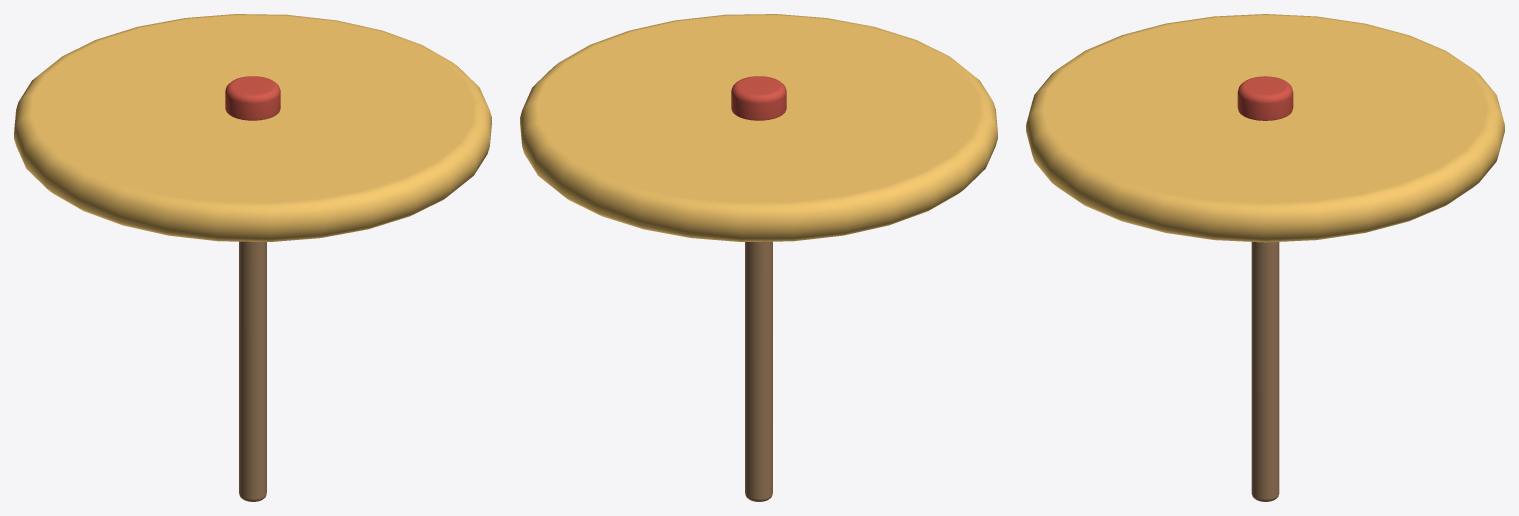
The picture shows the model from 3 angles, left to right: view 1: azimuth 30°, elevation 25°; view 2: azimuth 150°, elevation 25°; view 3: azimuth 270°, elevation 25°; orthographic projection.
Visible parts, largest first — view 1: LOD0_BEACH_UMBRELLA_Canopy, LOD0_BEACH_UMBRELLA_Pole, LOD0_BEACH_UMBRELLA_Cap; view 2: LOD0_BEACH_UMBRELLA_Canopy, LOD0_BEACH_UMBRELLA_Pole, LOD0_BEACH_UMBRELLA_Cap; view 3: LOD0_BEACH_UMBRELLA_Canopy, LOD0_BEACH_UMBRELLA_Pole, LOD0_BEACH_UMBRELLA_Cap.
Part boxes in pixels (x1,y1,x2,y2): LOD0_BEACH_UMBRELLA_Canopy: (14, 14, 491, 241); LOD0_BEACH_UMBRELLA_Pole: (239, 241, 266, 501); LOD0_BEACH_UMBRELLA_Cap: (225, 76, 280, 120); LOD0_BEACH_UMBRELLA_Canopy: (520, 14, 997, 241); LOD0_BEACH_UMBRELLA_Pole: (745, 241, 772, 501); LOD0_BEACH_UMBRELLA_Cap: (731, 76, 786, 120); LOD0_BEACH_UMBRELLA_Canopy: (1026, 14, 1504, 242); LOD0_BEACH_UMBRELLA_Pole: (1251, 242, 1279, 501); LOD0_BEACH_UMBRELLA_Cap: (1237, 76, 1293, 120).
Size of what is drawn, in the model's own units: 2.76 by 2.62 by 2.76.
